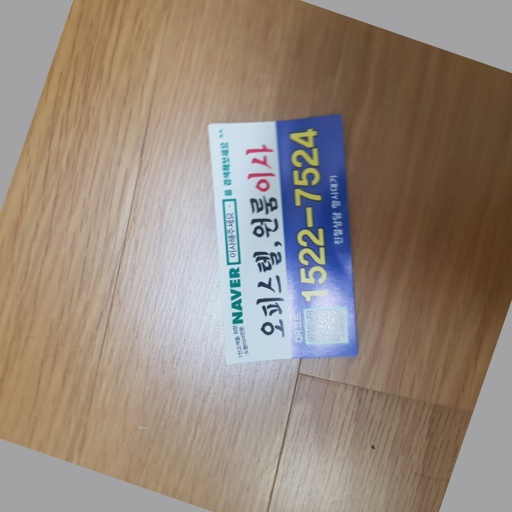Paper_2: (205, 110, 383, 364)
